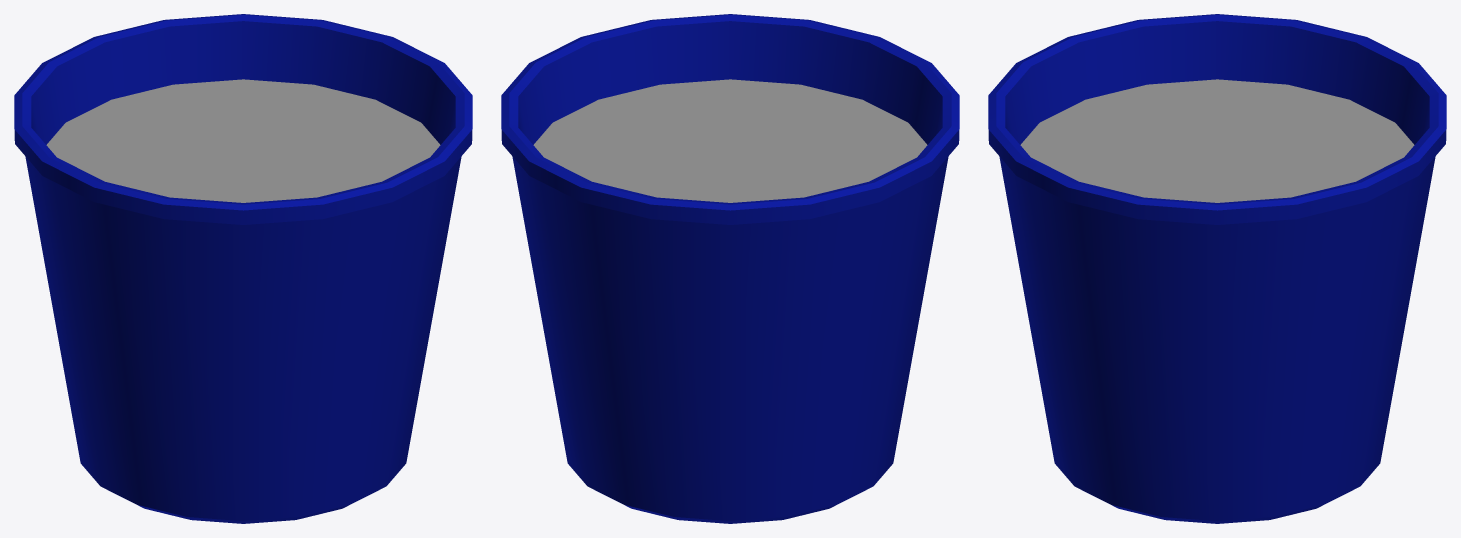
File: Bucket.fbx
The picture shows the model from 3 angles, left to right: view 1: azimuth 30°, elevation 25°; view 2: azimuth 150°, elevation 25°; view 3: azimuth 270°, elevation 25°; orthographic projection.
Parts seen in each view (by area): view 1: Bucket; view 2: Bucket; view 3: Bucket.
Boxes of the visible parts, x1=… form: Bucket: x1=14, y1=14, x2=472, y2=523; Bucket: x1=501, y1=14, x2=959, y2=523; Bucket: x1=988, y1=14, x2=1446, y2=523.
Size of the model in its own units: 21.39 by 17.73 by 21.07.
